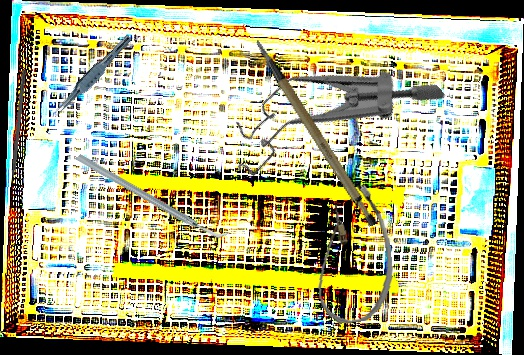Cannula: (308, 182, 398, 326)
Chopper: (74, 110, 231, 282)
Hook Surgical: (8, 69, 26, 194)
Scalpel Handle: (253, 24, 381, 240)
Speculum: (213, 5, 447, 233)
Tissue Forceps: (50, 29, 134, 122)
